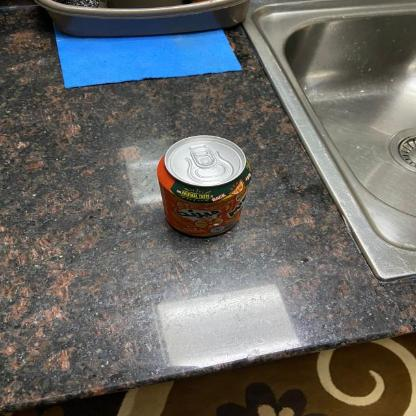Can: (155, 132, 253, 237)
